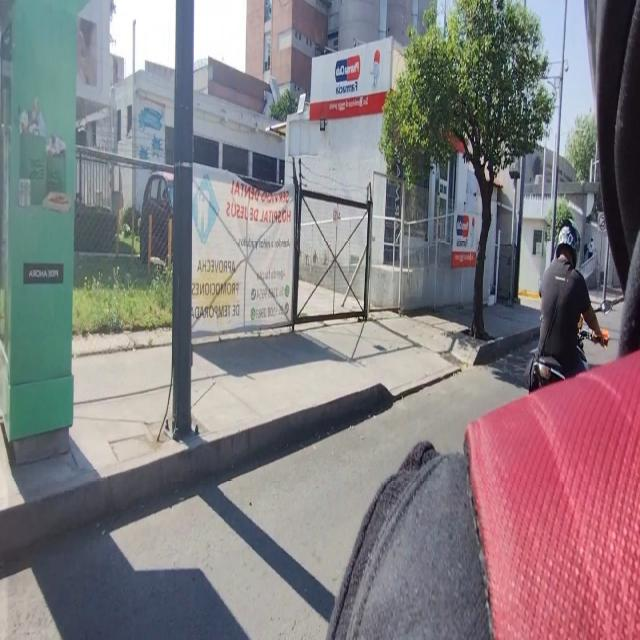adult: (536, 223, 607, 369)
